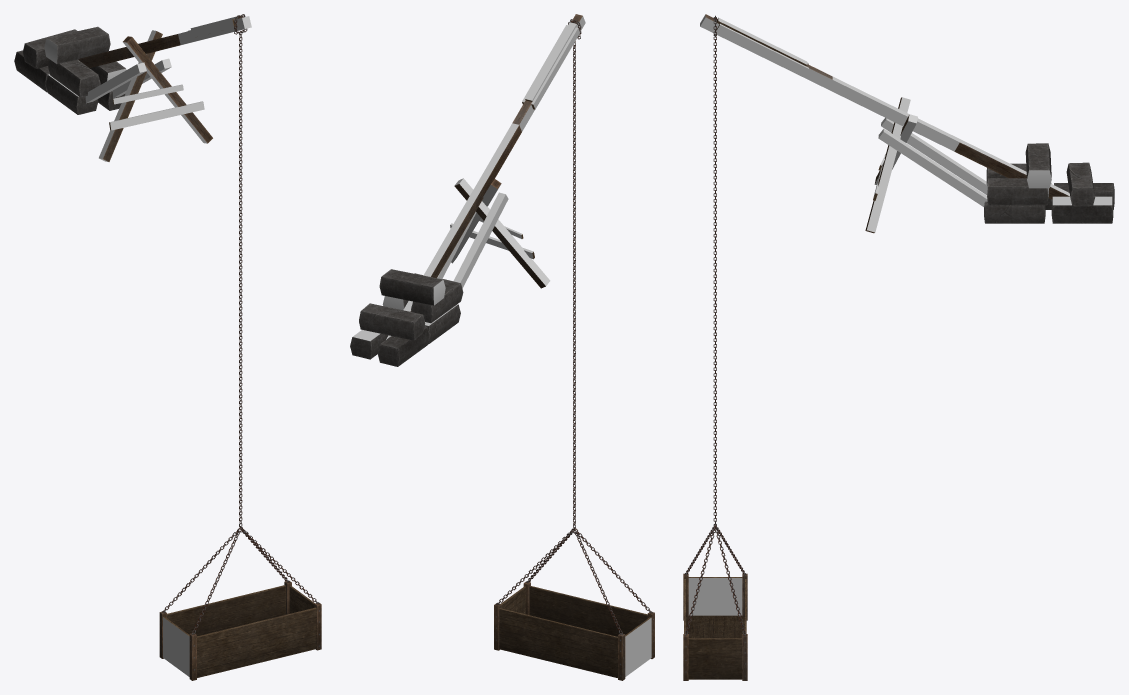
The model's file is SM_Crane1.fbx.
The picture shows the model from 3 angles, left to right: view 1: azimuth 30°, elevation 25°; view 2: azimuth 150°, elevation 25°; view 3: azimuth 270°, elevation 25°; orthographic projection.
Visible parts, largest first — view 1: SM_Crane1_LOD0; view 2: SM_Crane1_LOD0; view 3: SM_Crane1_LOD0.
Part boxes in pixels (x1,y1,x2,y2): SM_Crane1_LOD0: [14, 14, 321, 680]; SM_Crane1_LOD0: [350, 14, 654, 680]; SM_Crane1_LOD0: [683, 14, 1114, 680].
Bounding box in the file's own units: 279 × 814 × 1320.
